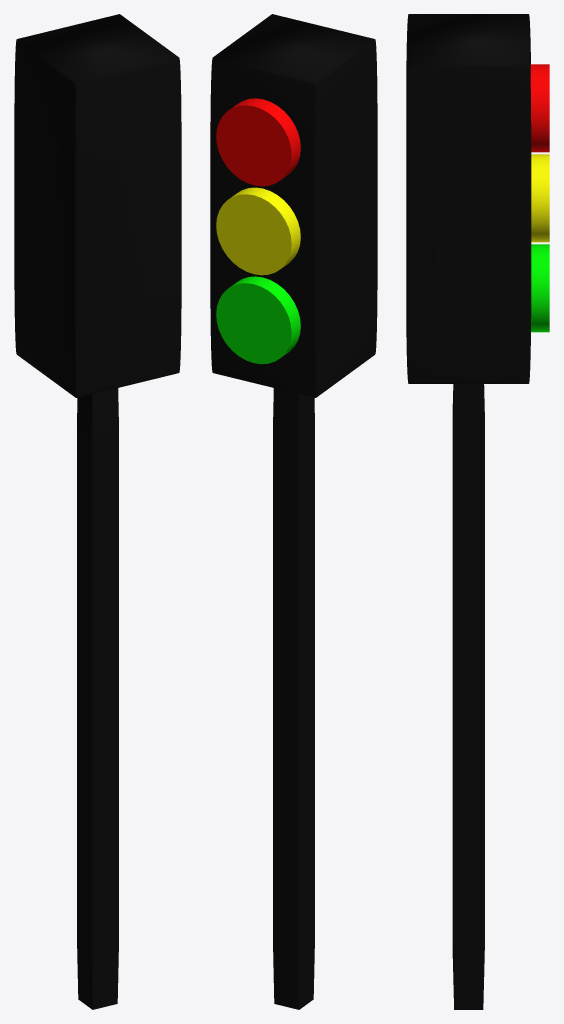
The model's file is semafor.obj.
3 renders of one model, left to right at view 1: azimuth 30°, elevation 25°; view 2: azimuth 150°, elevation 25°; view 3: azimuth 270°, elevation 25°, orthographic.
Parts seen in each view (by area): view 1: Head, Pole; view 2: Head, Pole, TrafficLight, TrafficLight.001, TrafficLight.002; view 3: Head, Pole, TrafficLight, TrafficLight.001, TrafficLight.002.
Part boxes in pixels (<box>): Head: <box>14,14,181,397</box>; Pole: <box>77,388,118,1009</box>; Head: <box>210,14,377,397</box>; Pole: <box>273,388,314,1009</box>; TrafficLight: <box>216,98,300,186</box>; TrafficLight.001: <box>216,187,300,275</box>; TrafficLight.002: <box>216,276,300,364</box>; Head: <box>406,14,531,383</box>; Pole: <box>452,384,484,1009</box>; TrafficLight: <box>530,64,549,152</box>; TrafficLight.001: <box>531,154,549,242</box>; TrafficLight.002: <box>531,244,549,332</box>.
Size of the model in its own units: 1 by 8.51 by 1.15.
